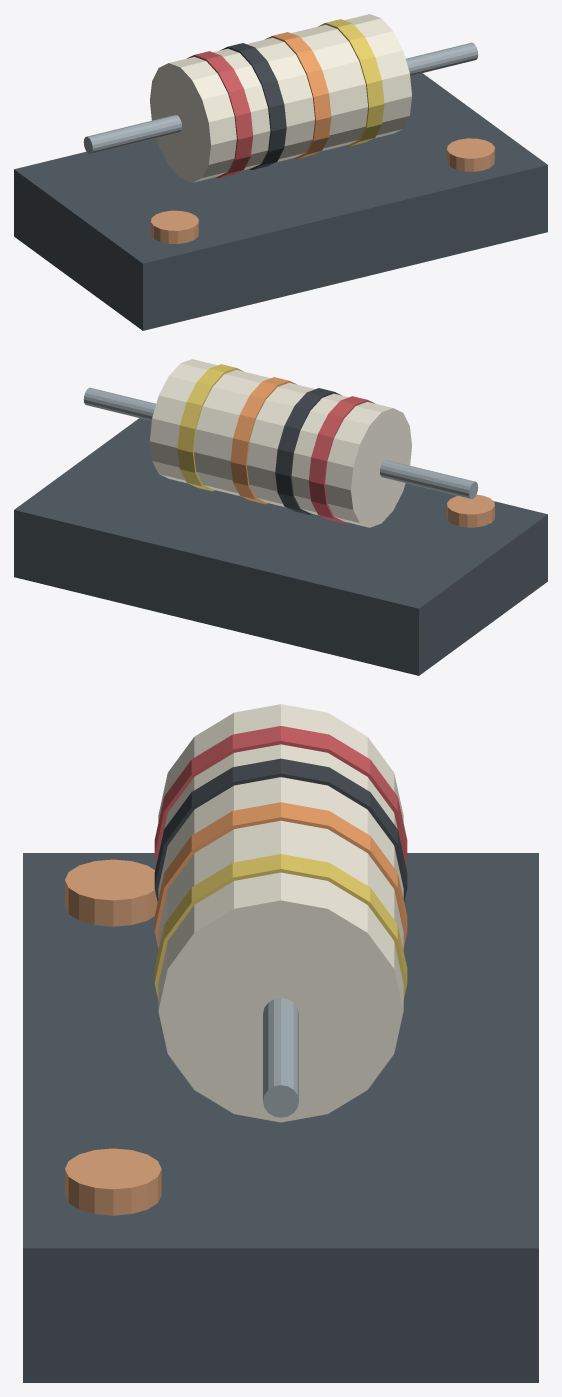
The model's file is resistor_module_lod2.glb.
The picture shows the model from 3 angles, top to bottom: view 1: azimuth 30°, elevation 25°; view 2: azimuth 150°, elevation 25°; view 3: azimuth 270°, elevation 25°; orthographic projection. The views are drawn at different scales.
Parts seen in each view (by area): view 1: RES_BASE_MAT_POLYMER_BLACK, RES_BODY_MAT_CERAMIC, RES_BAND_2_MAT_ORANGE, RES_BAND_0_MAT_RED, RES_BAND_1_MAT_BLACK, RES_BAND_3_MAT_YELLOW, RES_LEAD_-0.53_MAT_METAL_BRUSHED, RES_TERMINAL_0.53_MAT_METAL_COPPER, RES_TERMINAL_-0.53_MAT_METAL_COPPER, RES_LEAD_0.53_MAT_METAL_BRUSHED; view 2: RES_BASE_MAT_POLYMER_BLACK, RES_BODY_MAT_CERAMIC, RES_BAND_2_MAT_ORANGE, RES_BAND_0_MAT_RED, RES_BAND_1_MAT_BLACK, RES_BAND_3_MAT_YELLOW, RES_LEAD_-0.53_MAT_METAL_BRUSHED, RES_TERMINAL_-0.53_MAT_METAL_COPPER, RES_LEAD_0.53_MAT_METAL_BRUSHED; view 3: RES_BASE_MAT_POLYMER_BLACK, RES_BODY_MAT_CERAMIC, RES_TERMINAL_0.53_MAT_METAL_COPPER, RES_BAND_3_MAT_YELLOW, RES_BAND_2_MAT_ORANGE, RES_BAND_1_MAT_BLACK, RES_TERMINAL_-0.53_MAT_METAL_COPPER, RES_BAND_0_MAT_RED, RES_LEAD_0.53_MAT_METAL_BRUSHED.
Boxes of the visible parts, box(x1,y1,x2,y2) form: RES_BASE_MAT_POLYMER_BLACK: box(14, 73, 547, 330); RES_BODY_MAT_CERAMIC: box(150, 14, 412, 182); RES_BAND_2_MAT_ORANGE: box(265, 32, 331, 159); RES_BAND_0_MAT_RED: box(187, 51, 253, 178); RES_BAND_1_MAT_BLACK: box(220, 43, 286, 169); RES_BAND_3_MAT_YELLOW: box(318, 19, 384, 146); RES_LEAD_-0.53_MAT_METAL_BRUSHED: box(83, 115, 181, 154); RES_TERMINAL_0.53_MAT_METAL_COPPER: box(447, 138, 494, 171); RES_TERMINAL_-0.53_MAT_METAL_COPPER: box(151, 210, 198, 243); RES_LEAD_0.53_MAT_METAL_BRUSHED: box(405, 42, 478, 75); RES_BASE_MAT_POLYMER_BLACK: box(14, 418, 547, 675); RES_BODY_MAT_CERAMIC: box(149, 359, 411, 527); RES_BAND_2_MAT_ORANGE: box(230, 377, 296, 504); RES_BAND_0_MAT_RED: box(308, 396, 374, 523); RES_BAND_1_MAT_BLACK: box(275, 388, 341, 514); RES_BAND_3_MAT_YELLOW: box(177, 364, 243, 491); RES_LEAD_-0.53_MAT_METAL_BRUSHED: box(380, 460, 478, 499); RES_TERMINAL_-0.53_MAT_METAL_COPPER: box(447, 494, 494, 527); RES_LEAD_0.53_MAT_METAL_BRUSHED: box(83, 387, 156, 420); RES_BASE_MAT_POLYMER_BLACK: box(23, 853, 538, 1382); RES_BODY_MAT_CERAMIC: box(158, 704, 403, 1122); RES_TERMINAL_0.53_MAT_METAL_COPPER: box(65, 1148, 161, 1215); RES_BAND_3_MAT_YELLOW: box(154, 854, 407, 999); RES_BAND_2_MAT_ORANGE: box(154, 802, 407, 947); RES_BAND_1_MAT_BLACK: box(154, 758, 407, 901); RES_TERMINAL_-0.53_MAT_METAL_COPPER: box(65, 859, 157, 926); RES_BAND_0_MAT_RED: box(154, 726, 407, 863); RES_LEAD_0.53_MAT_METAL_BRUSHED: box(263, 998, 298, 1117).
Size of the model in its own units: 1.45 by 0.661 by 0.8.
